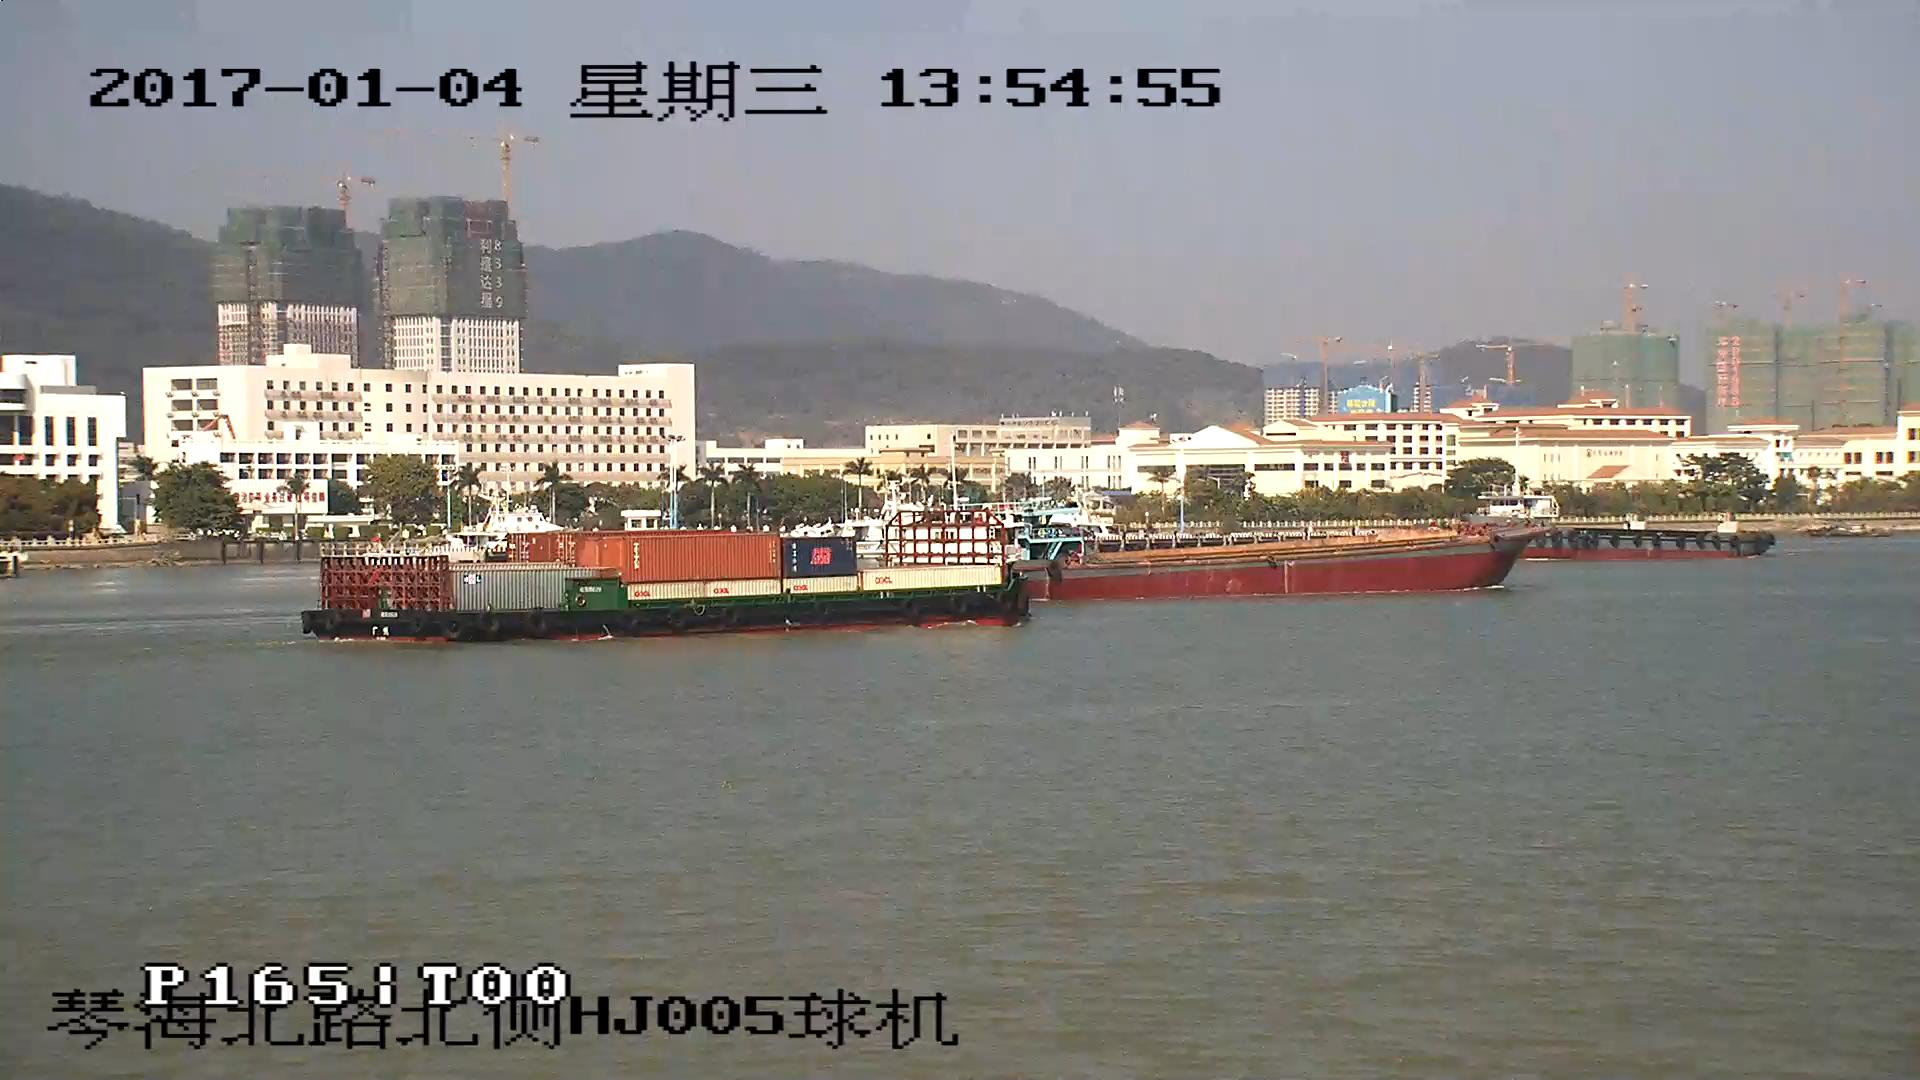bulk cargo carrier: (1033, 528, 1547, 600)
container ship: (302, 514, 1028, 642)
general cargo ship: (1526, 512, 1768, 554)
